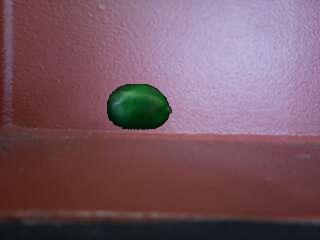Lime: (106, 84, 172, 131)
